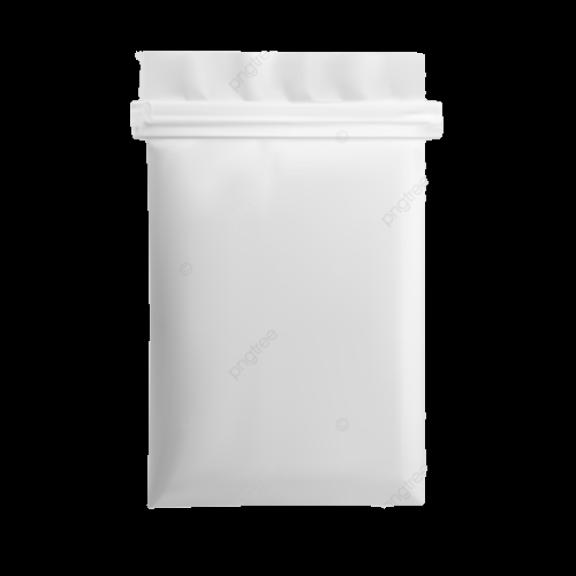Plastik: (129, 41, 448, 510)
